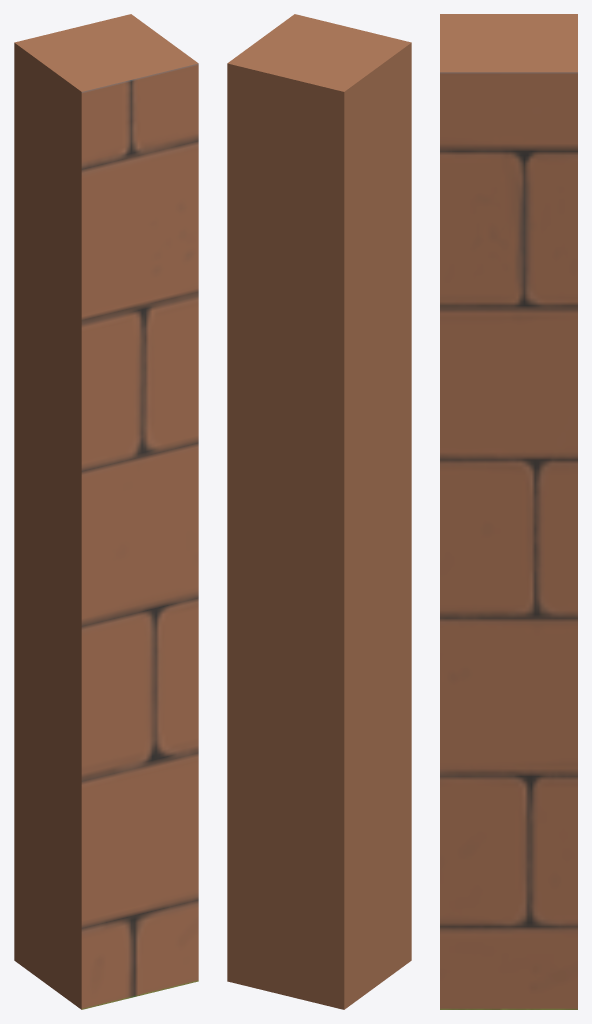
The model's file is OfficeWallCorner.fbx.
3 renders of one model, left to right at view 1: azimuth 30°, elevation 25°; view 2: azimuth 150°, elevation 25°; view 3: azimuth 270°, elevation 25°, orthographic. The views are drawn at different scales.
Visible parts, largest first — view 1: wallconer.004; view 2: wallconer.004; view 3: wallconer.004.
Part boxes in pixels (x1,y1,x2,y2): wallconer.004: (14, 14, 198, 1009); wallconer.004: (227, 14, 411, 1009); wallconer.004: (440, 14, 577, 1009).
Size of the model in its own units: 0.3 by 2.25 by 0.3.
